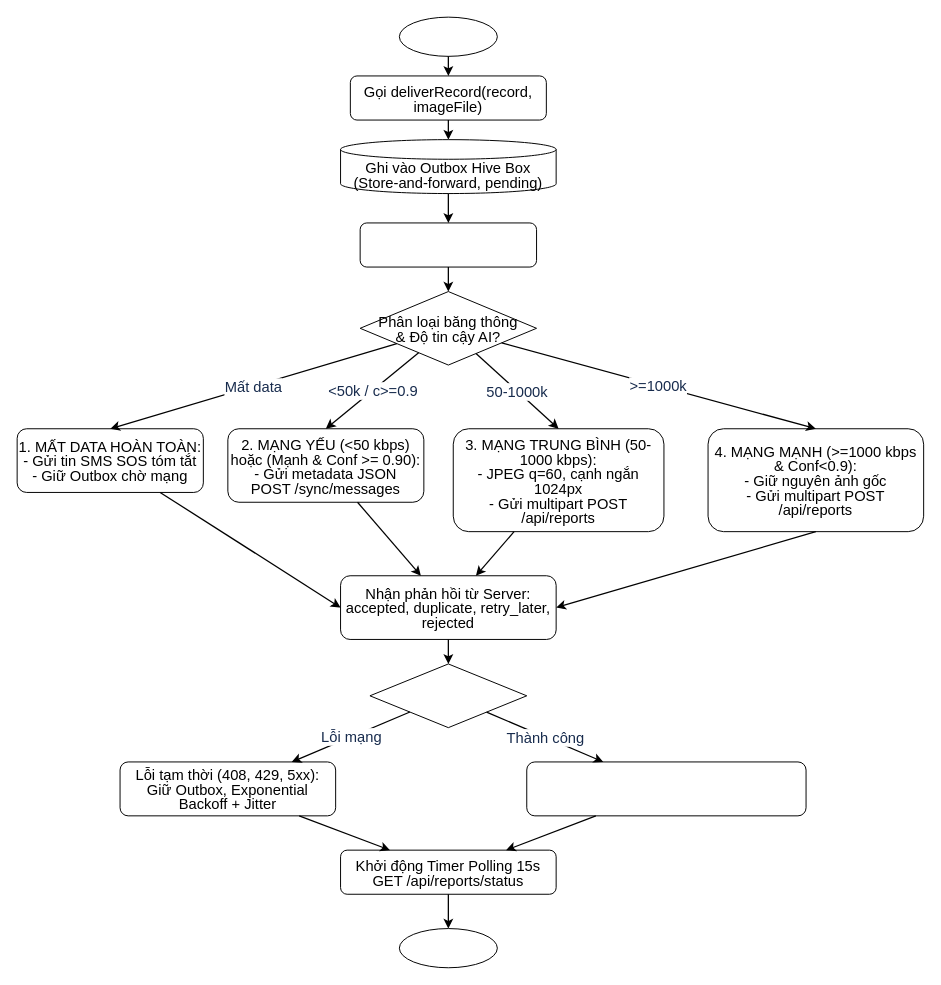
Image size: 941x985. Some labels were removed from this diagram. The shapes that lost their labels are listed below. From the top down, each one's centre as x and y in pixels, then its label:
At (447,36): "Bắt đầu".
At (448,244): "Đo thông lượng mạng (GET /probe 64 KB trong 6s)".
At (448,695): "Phản hồi hợp lệ?".
At (666,788): "Thành công (accepted / duplicate): Đánh dấu synced=true, xóa khỏi Outbox".
At (447,948): "Kết thúc".
